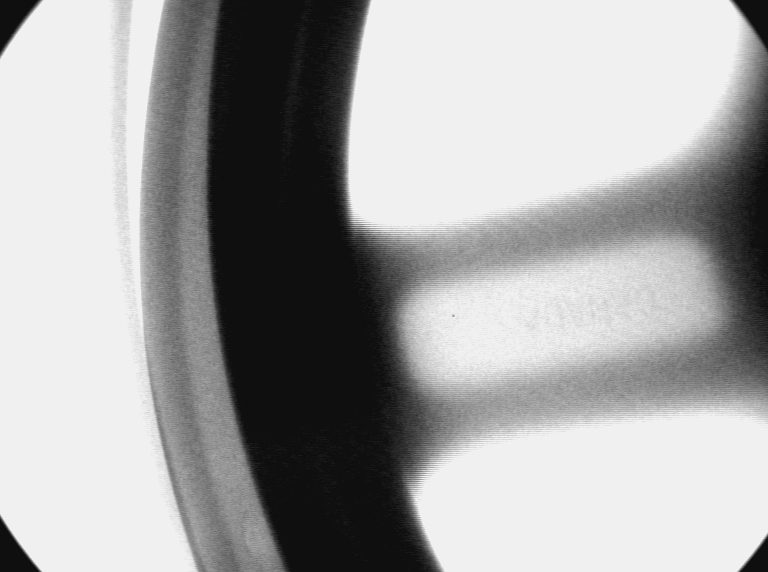defect: (243, 507, 283, 567)
